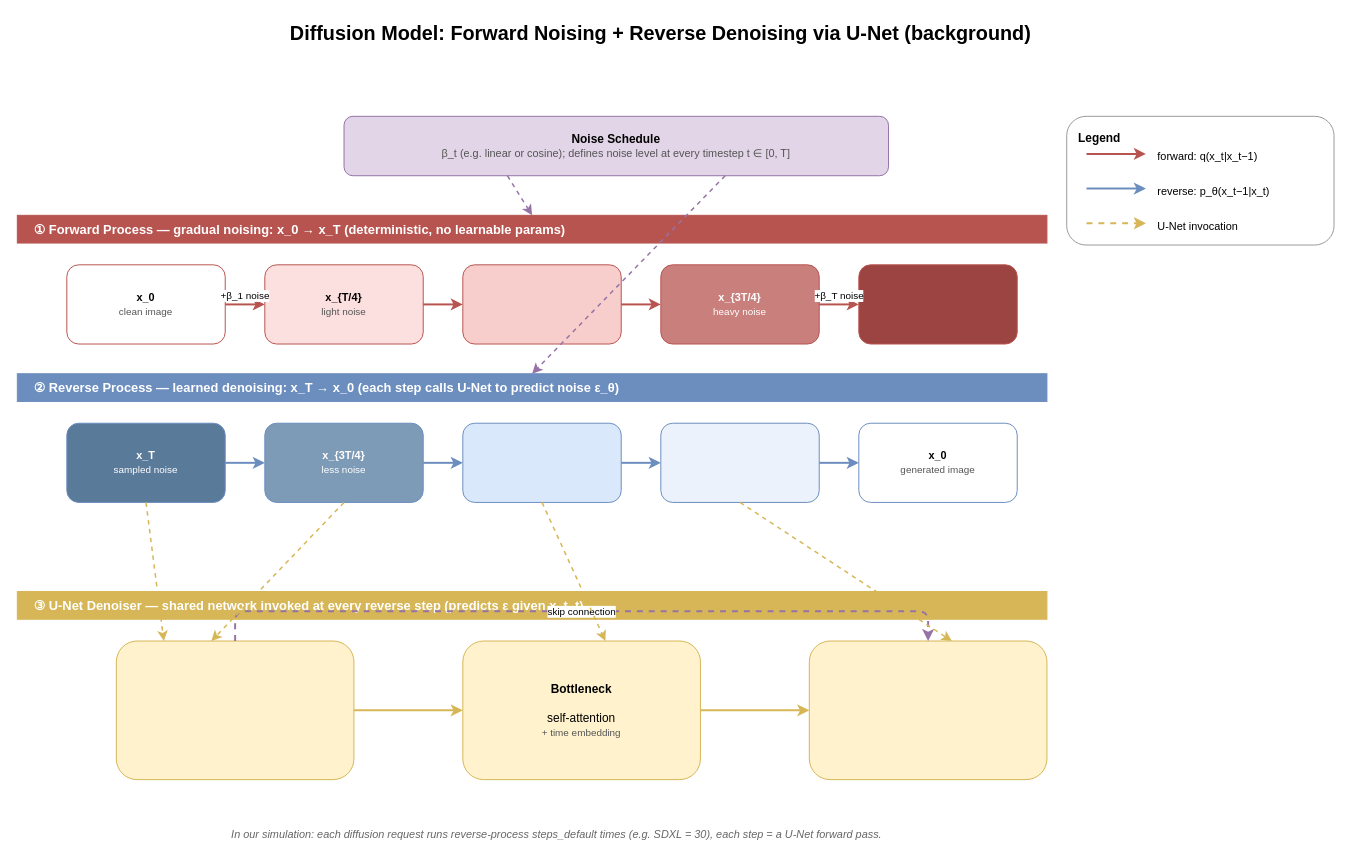
Some shapes in this 1351 by 865 pixel diagram are drawn without their labels. Here are the shapes that lost their labels. From the top down, the centre of each, then its label:
At point (541, 304): "x_{T/2} medium noise".
At point (937, 304): "x_T pure Gaussian noise".
At point (541, 462): "x_{T/2} clearer".
At point (739, 462): "x_{T/4} nearly clean".
At point (234, 710): "Encoder Block down-sampling path Conv + ResBlocks".
At point (927, 710): "Decoder Block up-sampling path ConvTranspose + ResBlocks".
